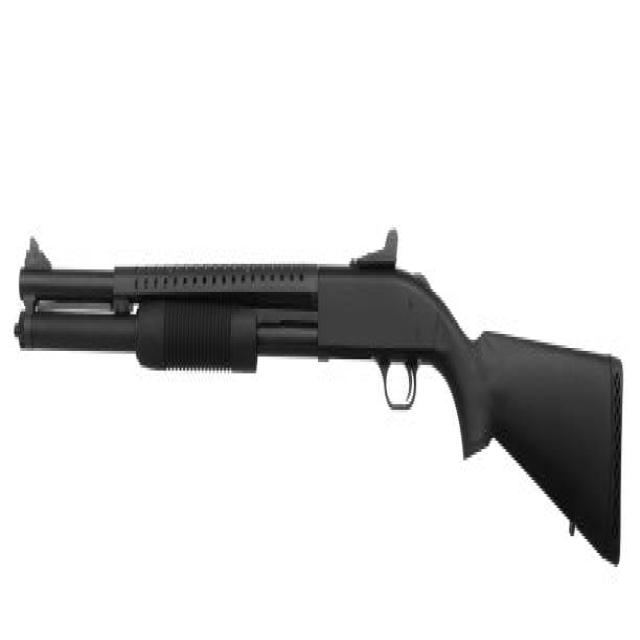rifle: (13, 223, 630, 580)
